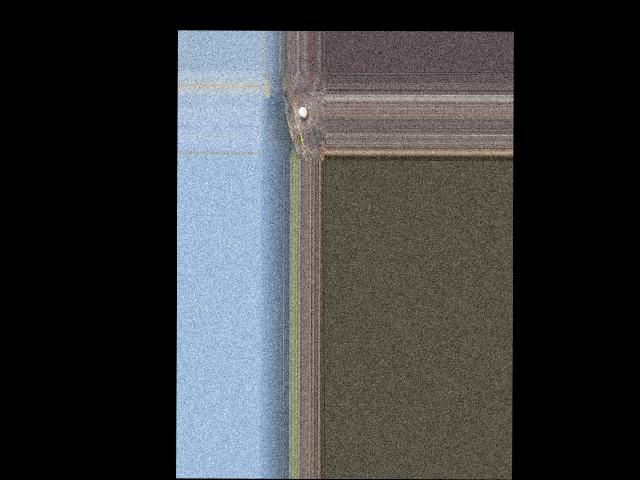egg: (298, 106, 307, 117)
